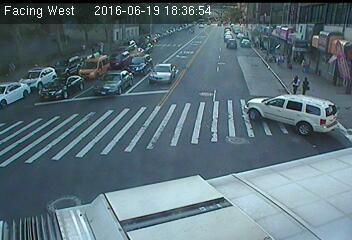neg: (109, 113, 126, 137), (166, 78, 181, 98), (80, 71, 94, 90), (193, 97, 207, 115), (176, 29, 187, 44), (214, 64, 224, 78)
pos: (286, 73, 305, 99), (296, 74, 312, 95)
